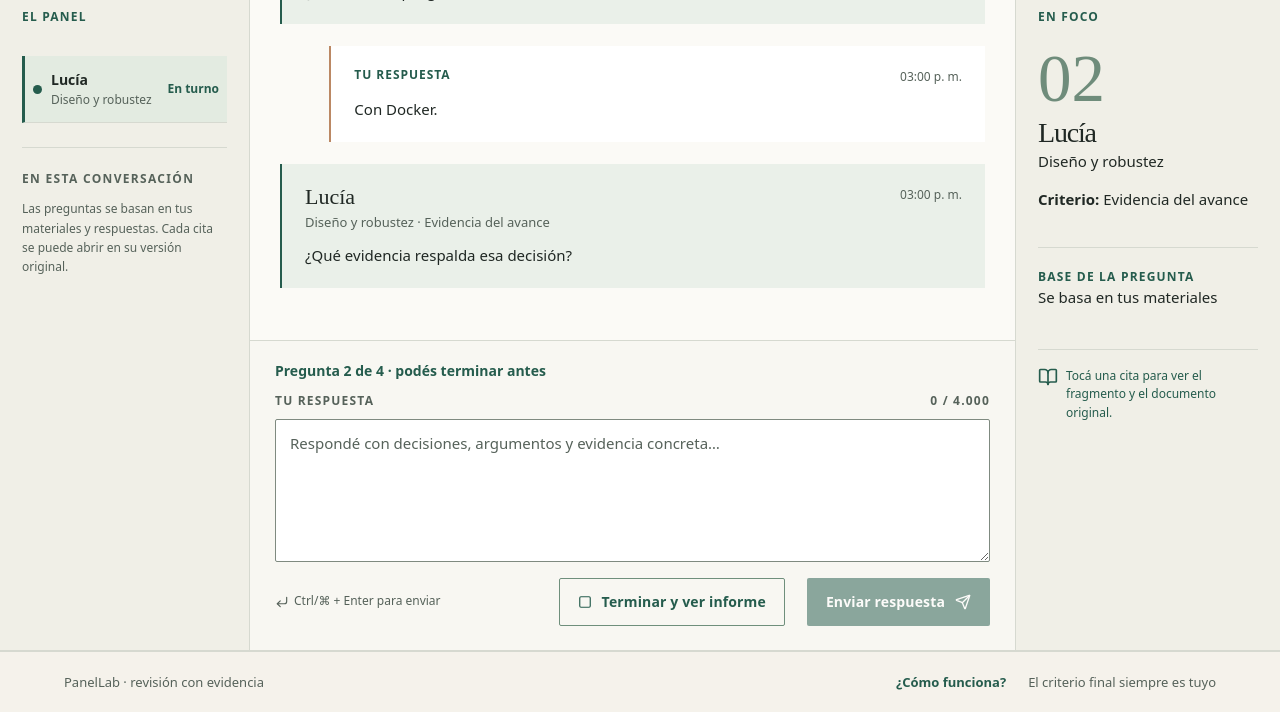
sala de revisión: terminar la sesión › avisa que una respuesta escrita pero no enviada no se tendrá en cuenta
(page scrolled)
Type "Un borrador" into the text box labelled "TU RESPUESTA" at (632, 491), box [275, 419, 990, 562]
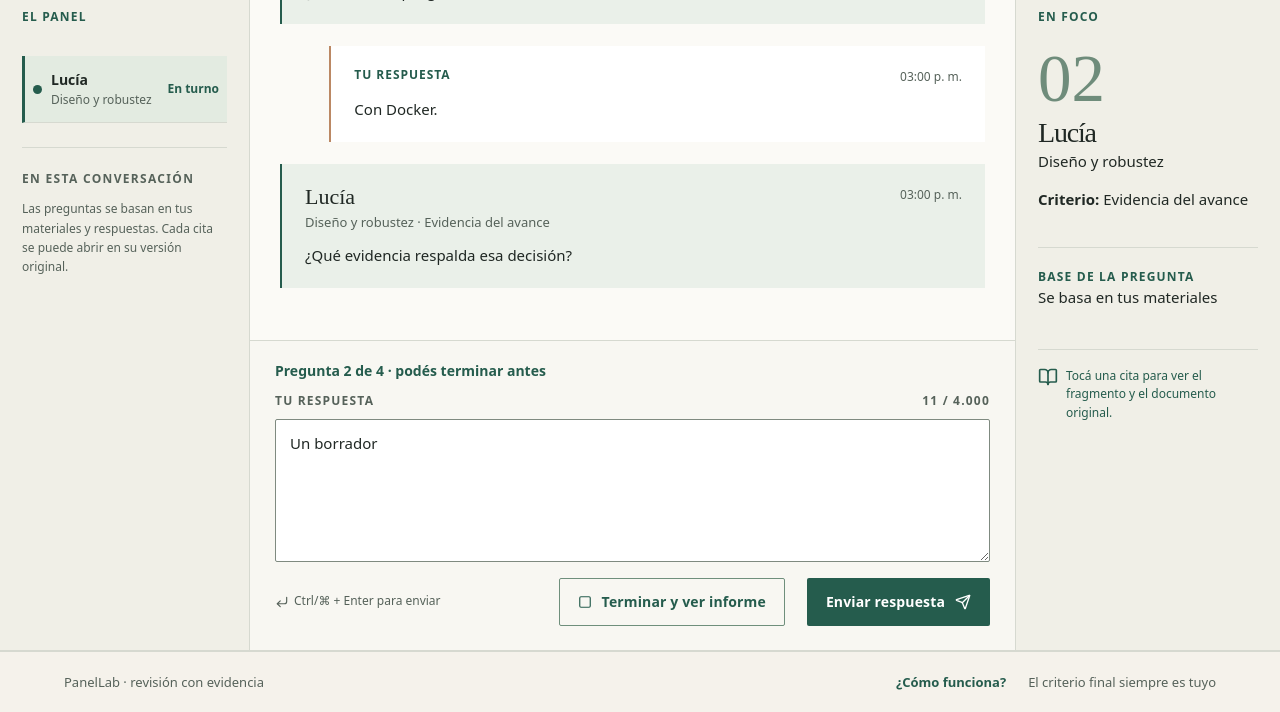
Click the button "Terminar y ver informe" at (672, 602), box [559, 578, 785, 626]
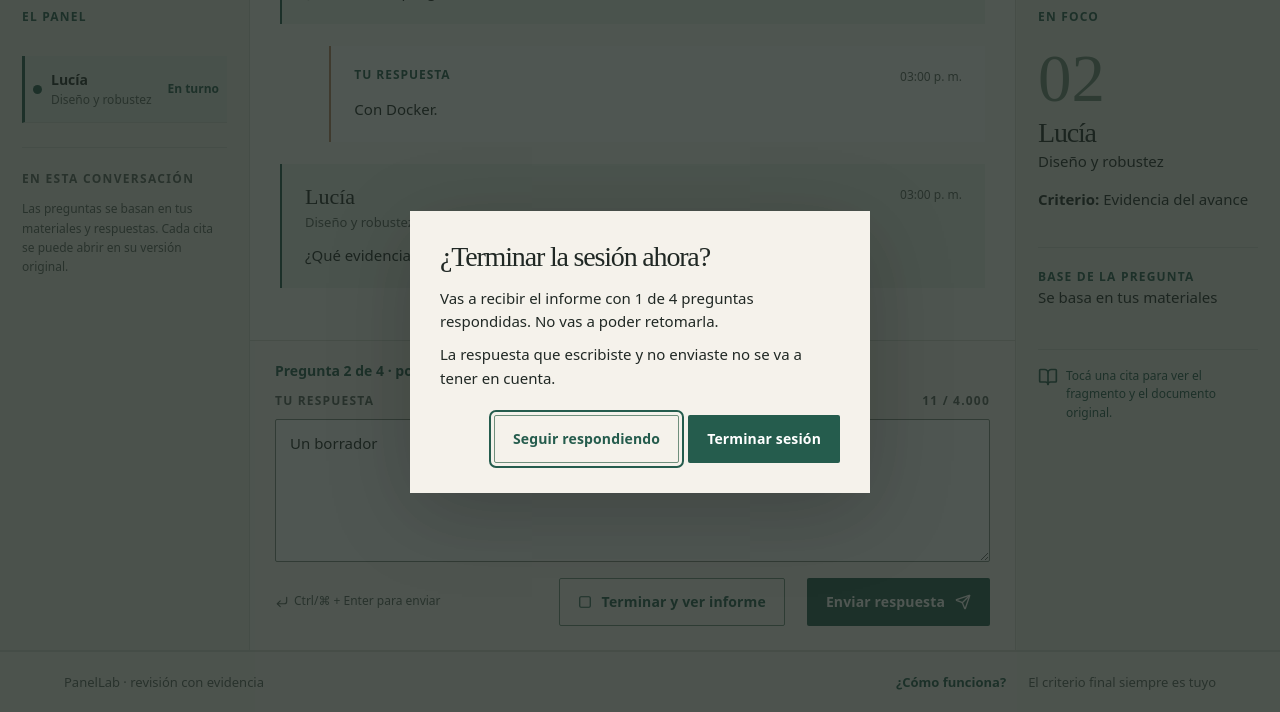
Now the dialog shows "no enviaste", box [440, 344, 802, 388]
